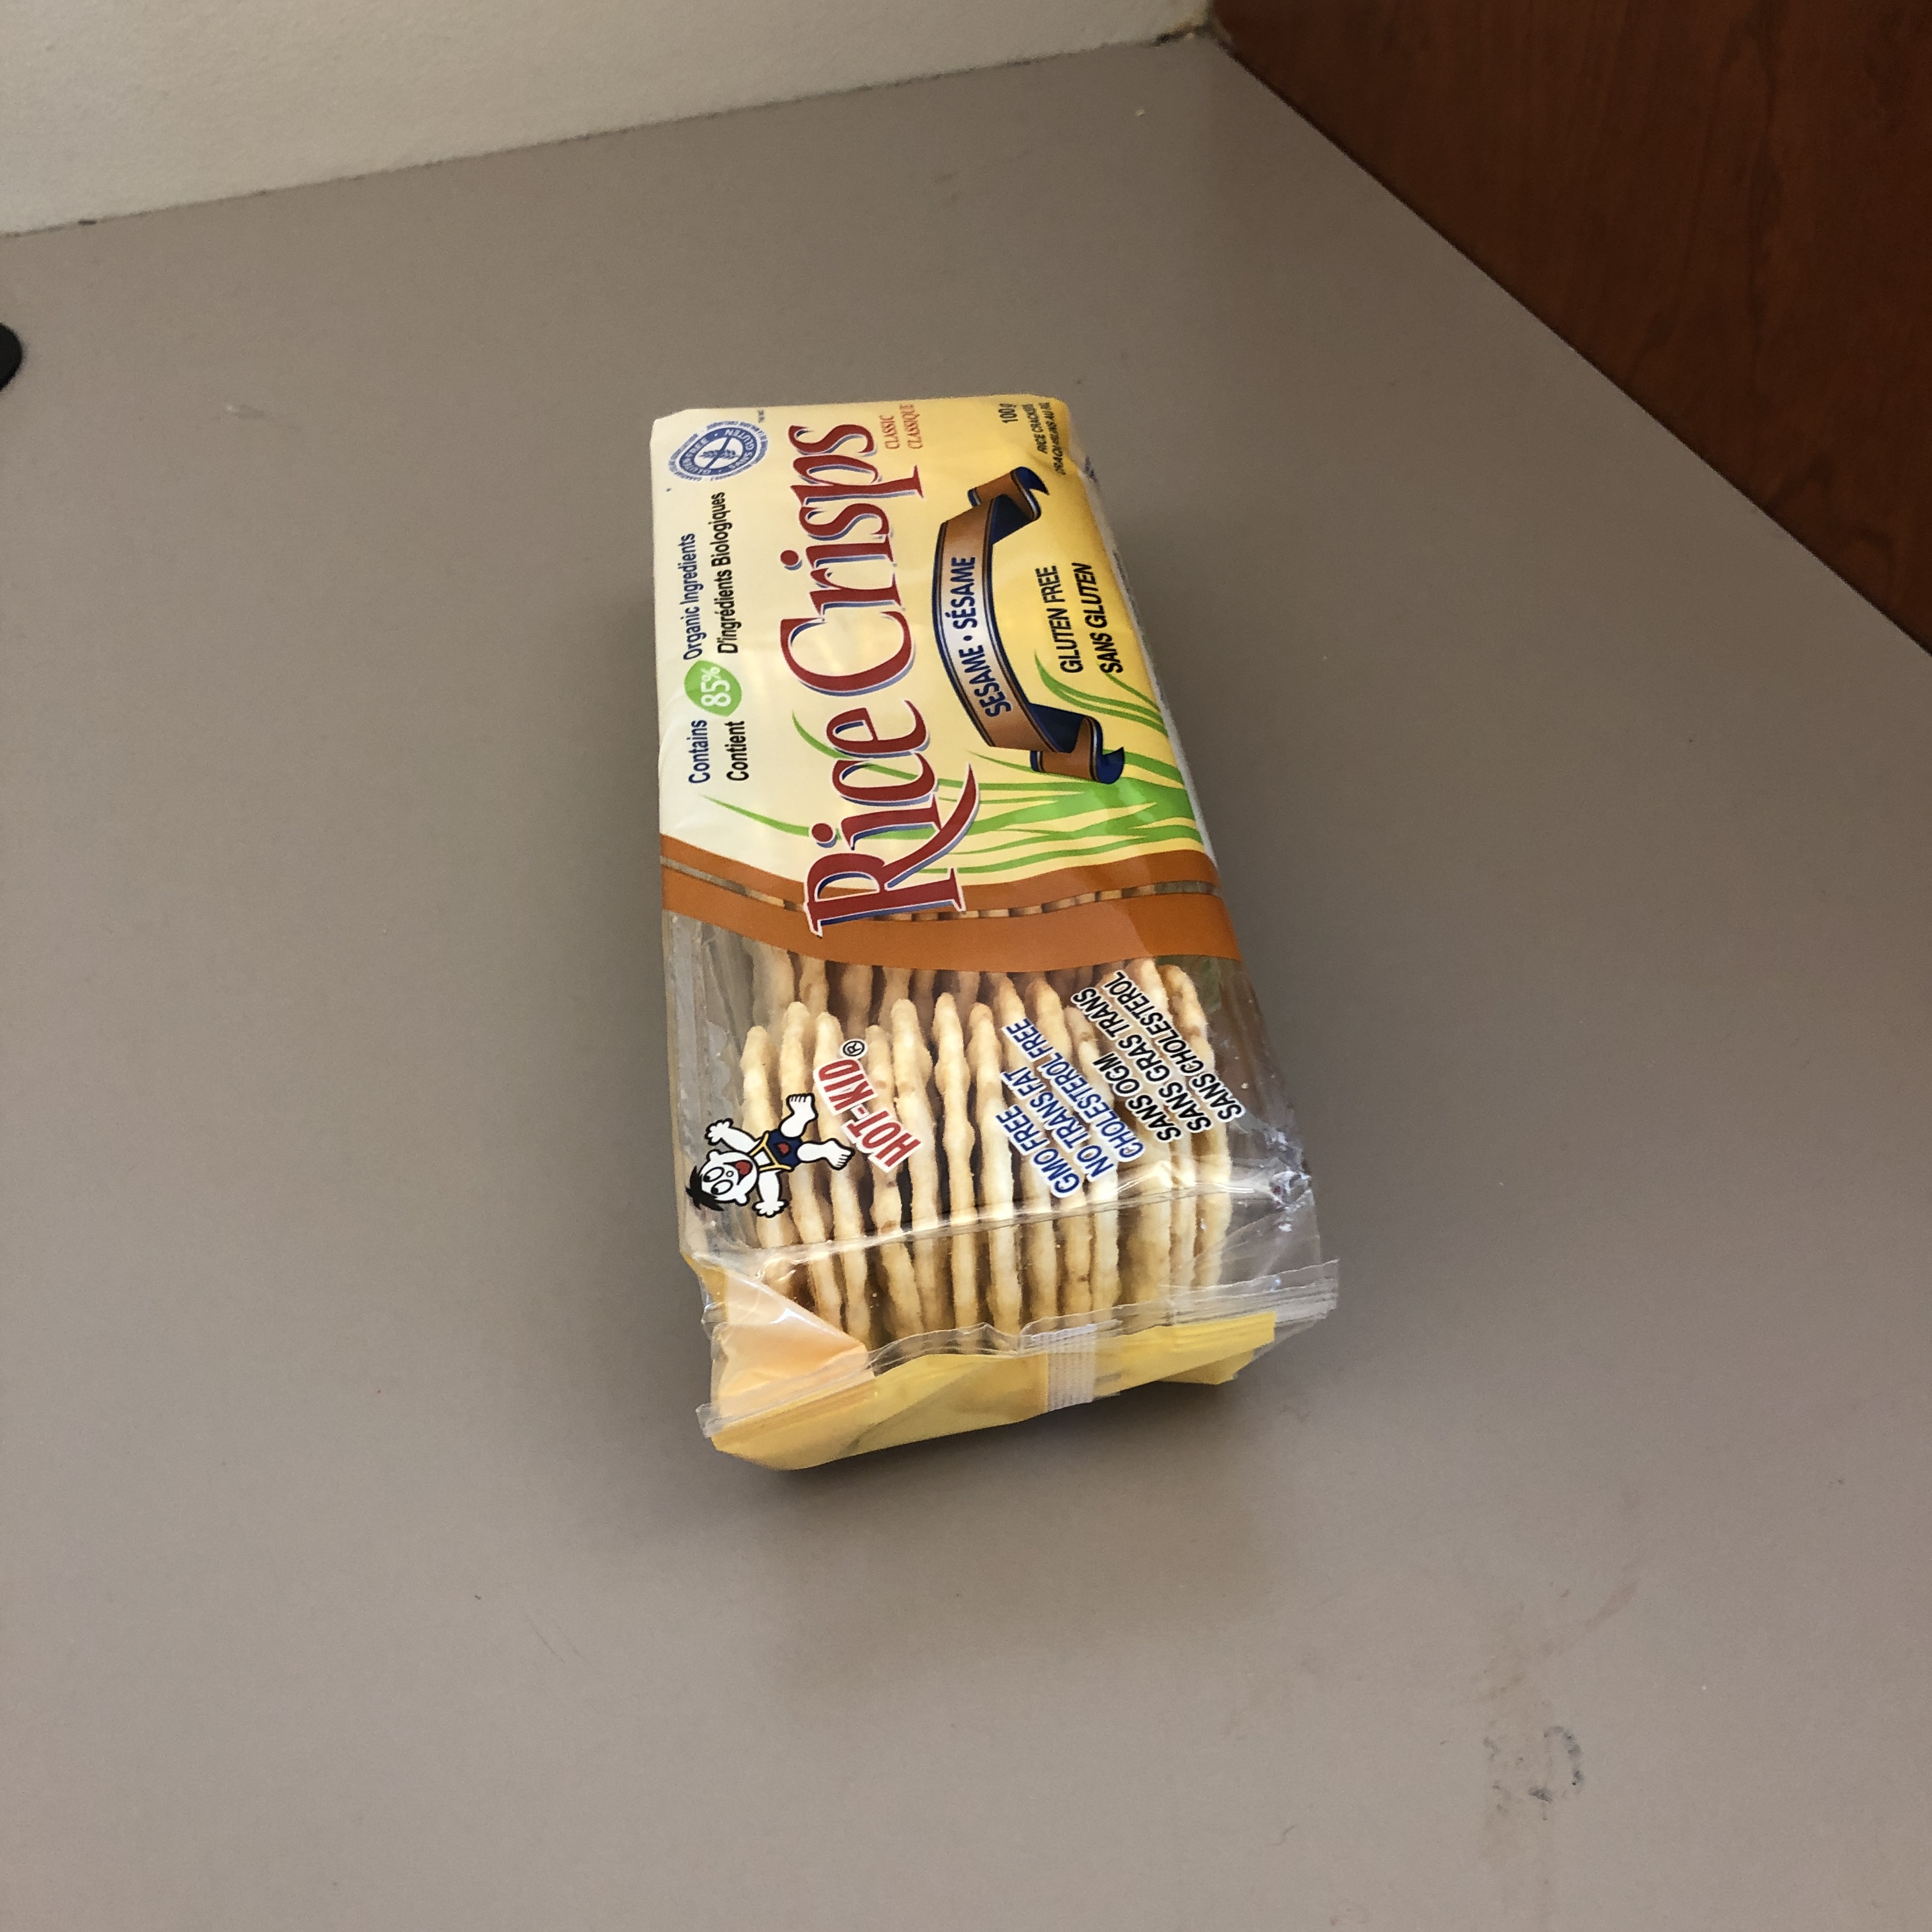hot_kid_rice_crisps_sesame: (392, 623, 1502, 1265)
